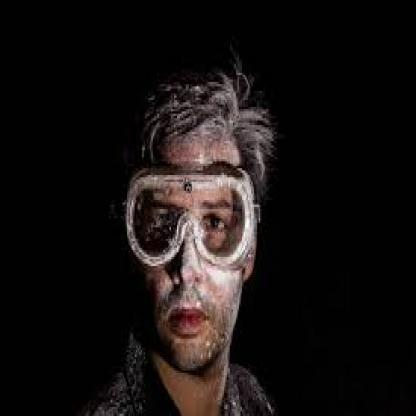goggles: (126, 164, 256, 266)
